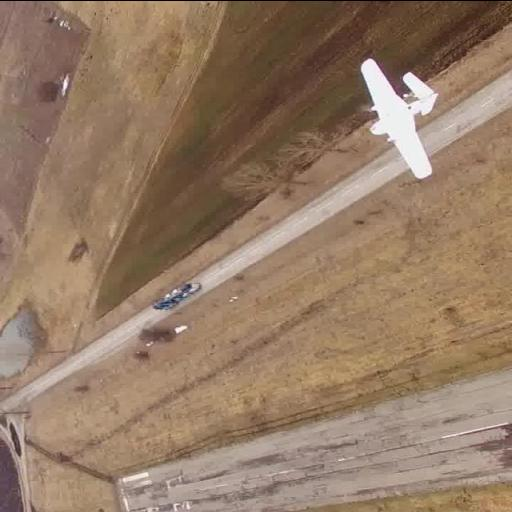uav: (344, 48, 453, 182)
